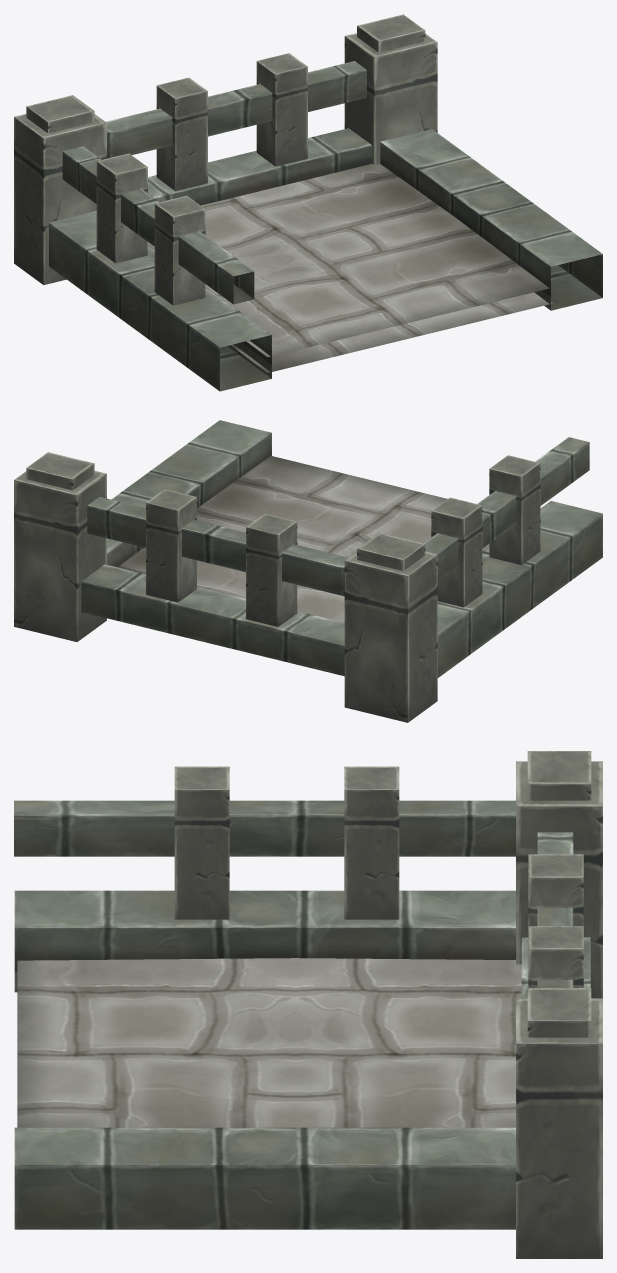
Rendered from bridge_04_tile_07.fbx.
3 renders of one model, top to bottom at view 1: azimuth 30°, elevation 25°; view 2: azimuth 150°, elevation 25°; view 3: azimuth 270°, elevation 25°, orthographic. The views are drawn at different scales.
Visible parts, largest first — view 1: bridge_04_tile_07; view 2: bridge_04_tile_07; view 3: bridge_04_tile_07.
Boxes of the visible parts, box(x1,y1,x2,y2) form: bridge_04_tile_07: box(14, 14, 602, 391); bridge_04_tile_07: box(14, 420, 602, 722); bridge_04_tile_07: box(14, 751, 602, 1258).
Size of the model in its own units: 2.84 by 1.09 by 2.5.
